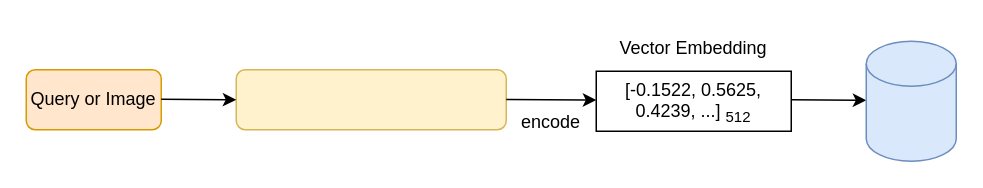
Image size: 983x188. Some labels were removed from this diagram. The shapes that lost their labels are listed below. From the top down, each one's box as (x1, y1, x2, y2) in pixels, then its label:
(235, 68, 506, 130): sentence-transformers/CLIP-ViT
(865, 40, 956, 161): DB
